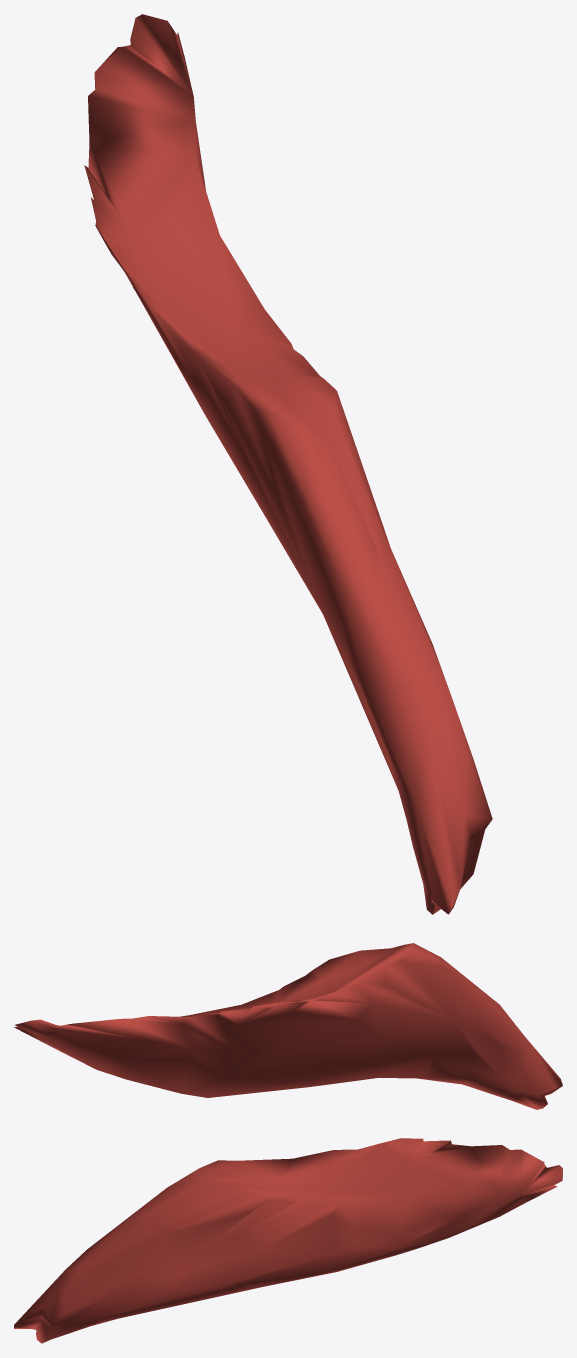
Rendered from musculos-obliquus-superior-capitis-muscle-r.glb.
3 views of the same model, one above another, from view 1: azimuth 30°, elevation 25°; view 2: azimuth 150°, elevation 25°; view 3: azimuth 270°, elevation 25° (orthographic). The views are drawn at different scales.
Visible parts, largest first — view 1: Obliquus superior capitis muscle.r; view 2: Obliquus superior capitis muscle.r; view 3: Obliquus superior capitis muscle.r.
Part boxes in pixels (x1,y1,x2,y2): Obliquus superior capitis muscle.r: (84,14,492,914); Obliquus superior capitis muscle.r: (14,943,562,1109); Obliquus superior capitis muscle.r: (14,1138,562,1343).
Size of the model in its own units: 0.0143 by 0.0229 by 0.0495.
